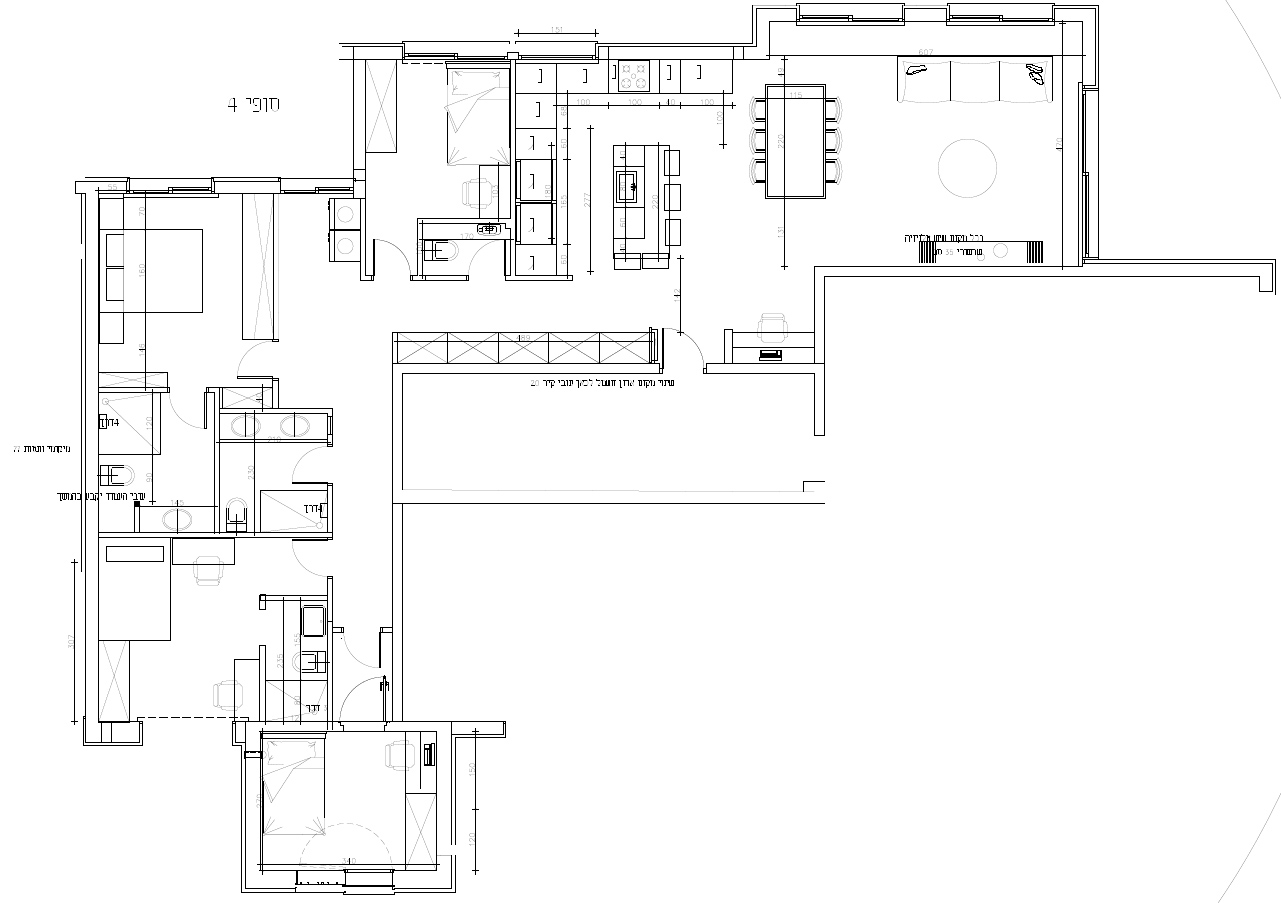door: (338, 678, 381, 719), (290, 539, 327, 582), (343, 633, 386, 670), (286, 447, 325, 487), (372, 234, 413, 272), (168, 397, 209, 429), (234, 341, 270, 374), (467, 241, 501, 272)
